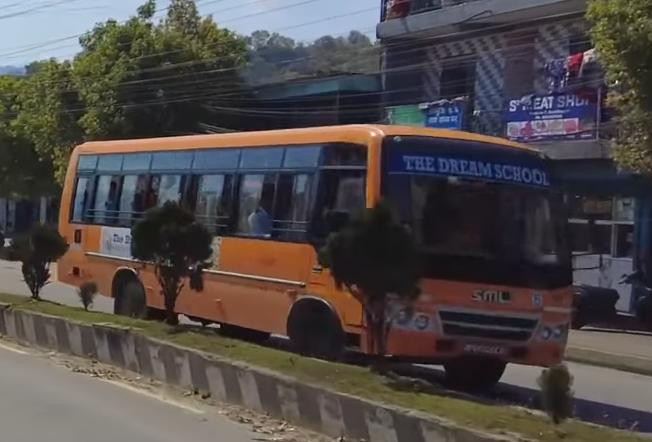school_bus: (51, 122, 575, 396)
